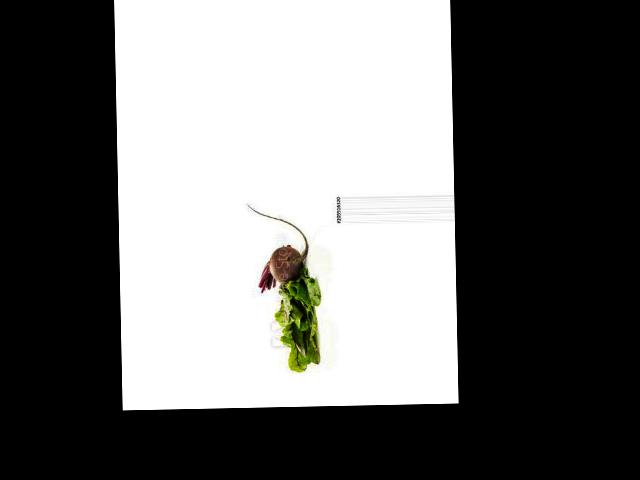beet: (246, 201, 309, 294)
